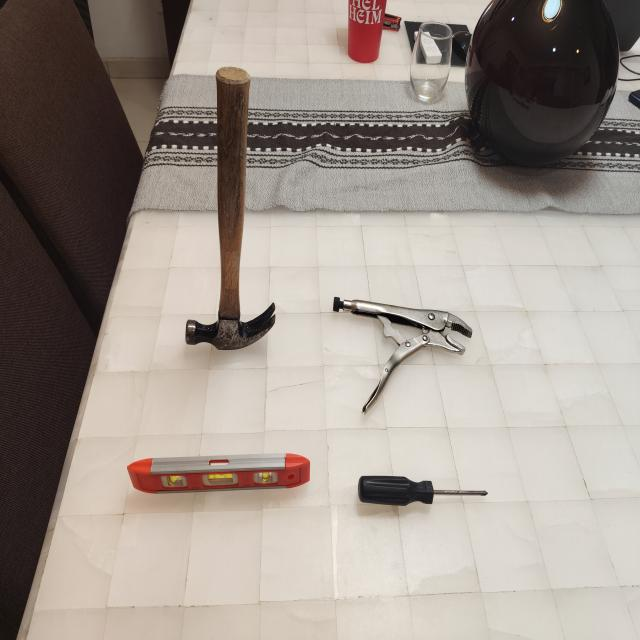Desarmador: (349, 456, 499, 530)
Martillo: (178, 56, 302, 383)
Nivel: (115, 428, 315, 510)
PinzasPresion: (321, 290, 491, 420)
